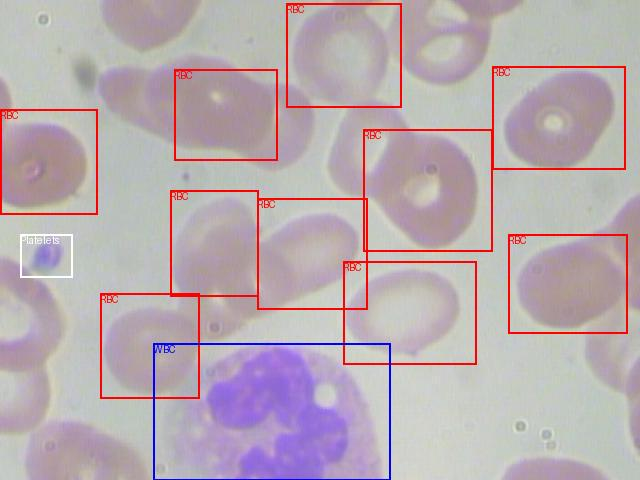Platelets: (20, 234, 72, 277)
RBC: (363, 129, 492, 251), (343, 261, 476, 364), (492, 66, 625, 169), (257, 198, 367, 309), (286, 3, 401, 107), (508, 234, 627, 333), (100, 293, 199, 398), (0, 109, 97, 214), (174, 69, 277, 160), (170, 190, 258, 296)
WBC: (153, 343, 390, 480)
